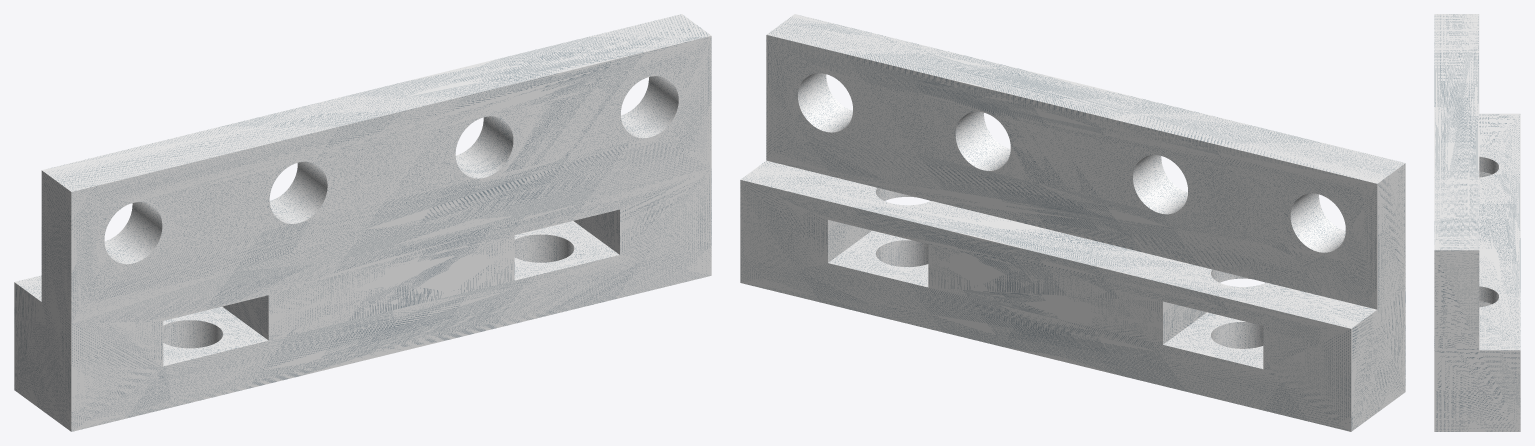
Rendered from ConnectorServo56.dae.
The picture shows the model from 3 angles, left to right: view 1: azimuth 30°, elevation 25°; view 2: azimuth 150°, elevation 25°; view 3: azimuth 270°, elevation 25°; orthographic projection. The views are drawn at different scales.
Visible parts, largest first — view 1: SketchUp (×10); view 2: SketchUp (×9); view 3: SketchUp.
Boxes of the visible parts, bbox=[...] form: SketchUp (×10): bbox=[14, 14, 711, 431]; SketchUp (×9): bbox=[740, 14, 1405, 431]; SketchUp: bbox=[1434, 14, 1520, 431].
Size of the model in its own units: 1.22 by 0.189 by 0.437.
